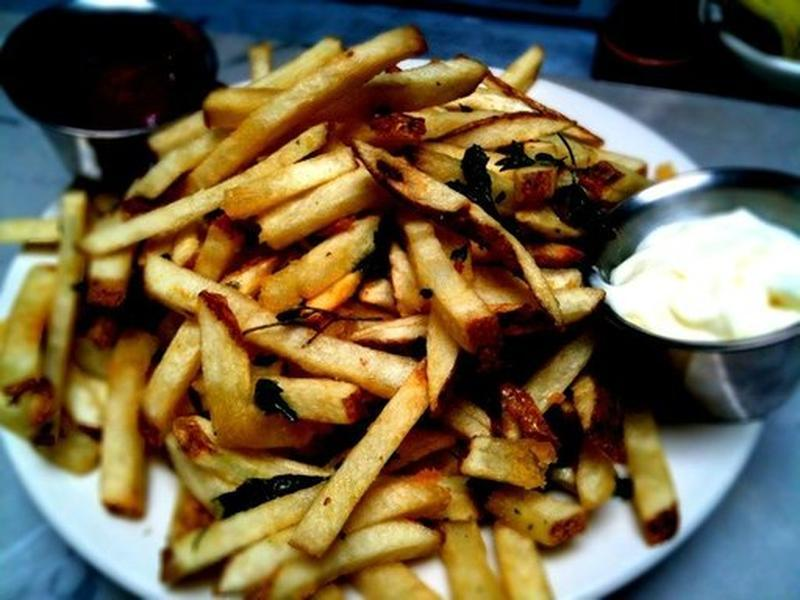french_fries: (38, 45, 568, 600)
